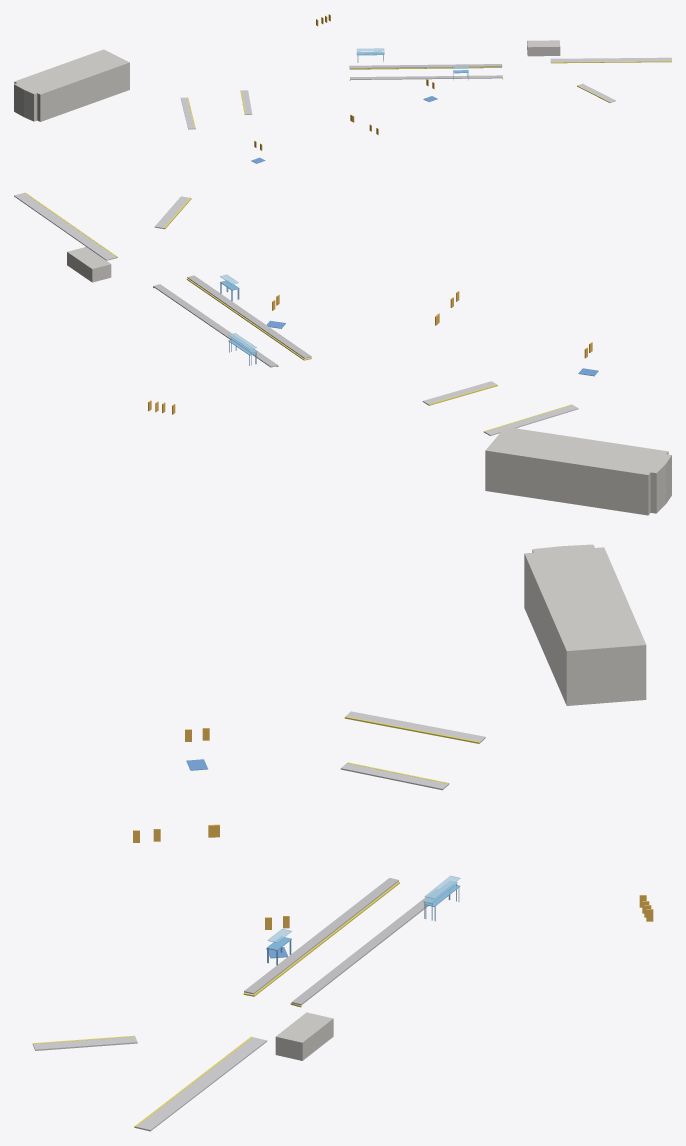
Rendered from 8507060-bern-helvetiaplatz.glb.
The picture shows the model from 3 angles, top to bottom: view 1: azimuth 30°, elevation 25°; view 2: azimuth 150°, elevation 25°; view 3: azimuth 270°, elevation 25°; orthographic projection. The views are drawn at different scales.
Visible parts, largest first — view 1: building_part@x, platform_body@0, platform_surface@0, boarding_edge@0; view 2: building_part@x, platform_body@0, platform_surface@0, boarding_edge@0; view 3: building_part@x, platform_body@0, platform_surface@0, boarding_edge@0, access_point@0.
Boxes of the visible parts, bbox=[...] form: building_part@x: bbox=[14, 40, 560, 121]; platform_body@0: bbox=[180, 57, 671, 129]; platform_surface@0: bbox=[349, 64, 502, 79]; boarding_edge@0: bbox=[187, 61, 671, 129]; building_part@x: bbox=[67, 247, 671, 515]; platform_body@0: bbox=[14, 193, 578, 435]; platform_surface@0: bbox=[153, 275, 311, 367]; boarding_edge@0: bbox=[24, 192, 572, 432]; building_part@x: bbox=[275, 544, 646, 1060]; platform_body@0: bbox=[33, 711, 485, 1131]; platform_surface@0: bbox=[244, 878, 438, 1005]; boarding_edge@0: bbox=[32, 716, 479, 1127]; access_point@0: bbox=[133, 728, 653, 929].
Bounding box in the file's own units: 219 × 15.12 × 108.
